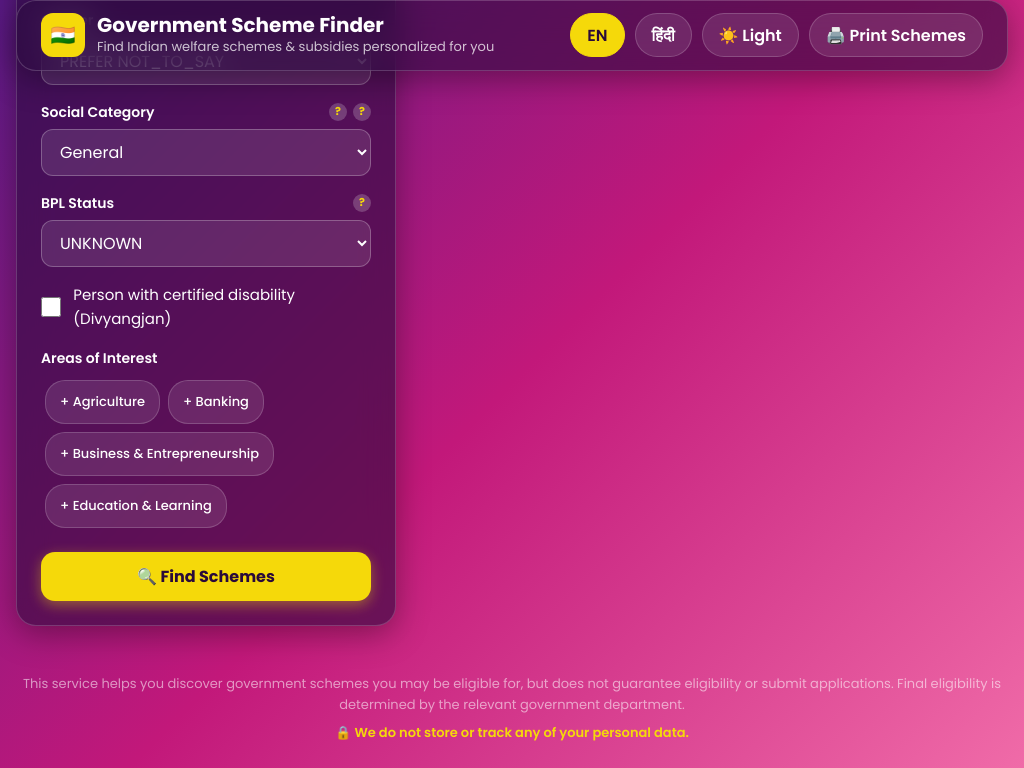
Scenario: Phase 5 UI Tests › blocks submission and shows validation errors when age or state is empty
The width and height of the screenshot is (1024, 768).
(page scrolled)
Click the button "🔍 Find Schemes": coordinates (206, 576) [41,552,371,601]
(page scrolled)
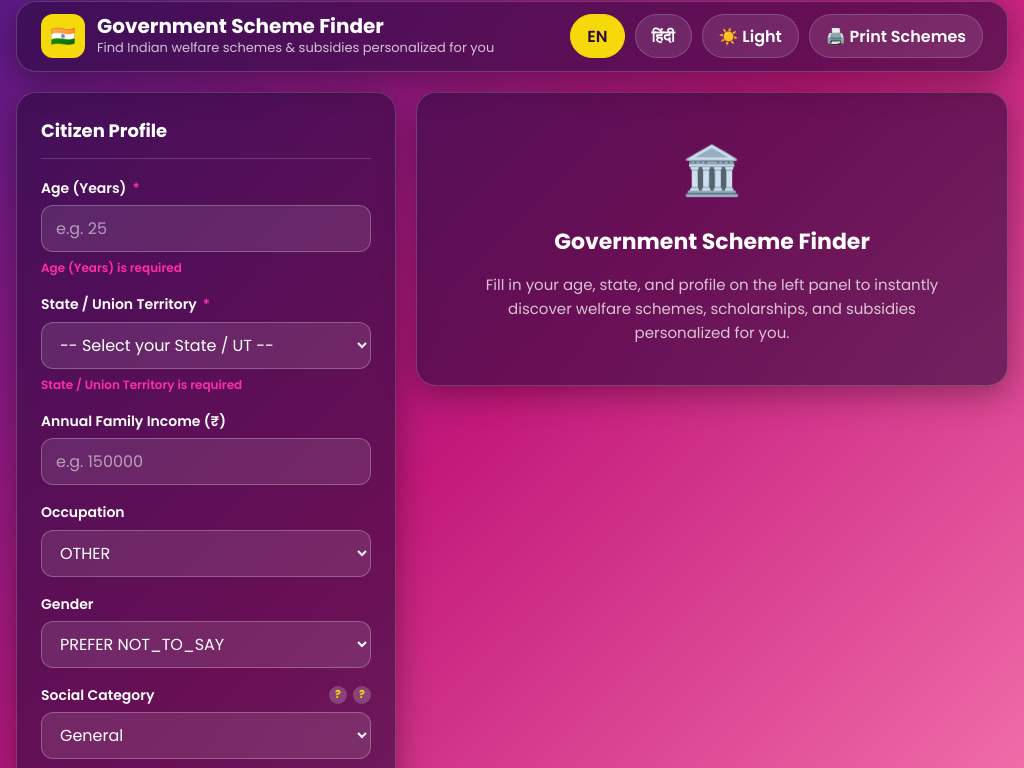
Result: the text "Age (Years) is required" is shown at [41,259,182,276]
Result: the text "State / Union Territory is required" is shown at [41,376,242,393]
